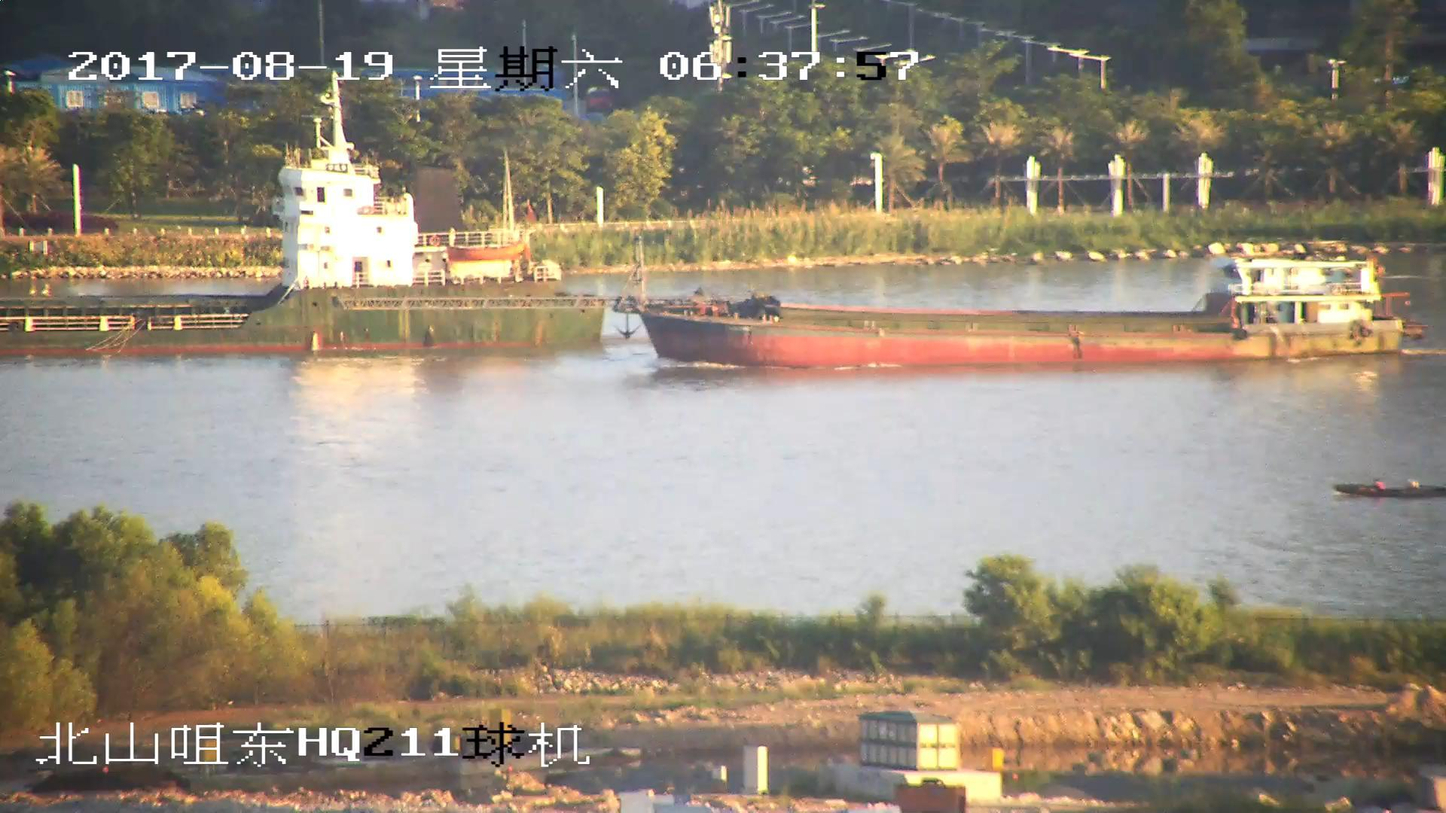bulk cargo carrier: (613, 245, 1414, 365)
fishing boat: (1335, 476, 1445, 502)
general cargo ship: (0, 105, 603, 347)
